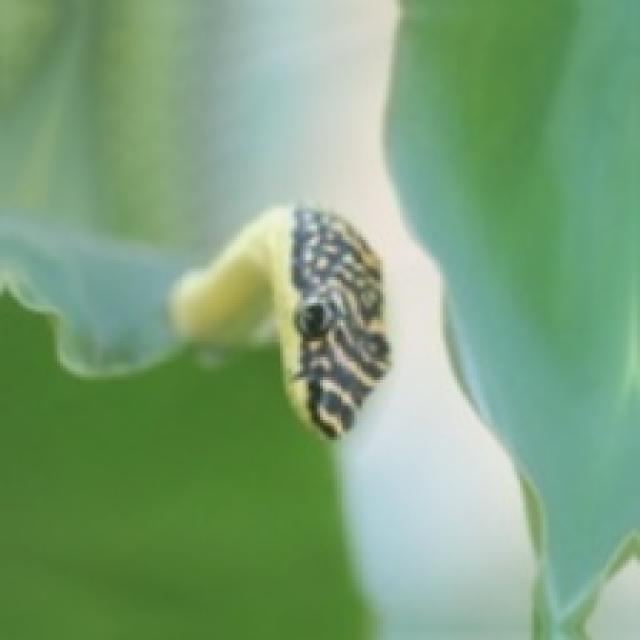paradise tree snake: (171, 206, 386, 434)
